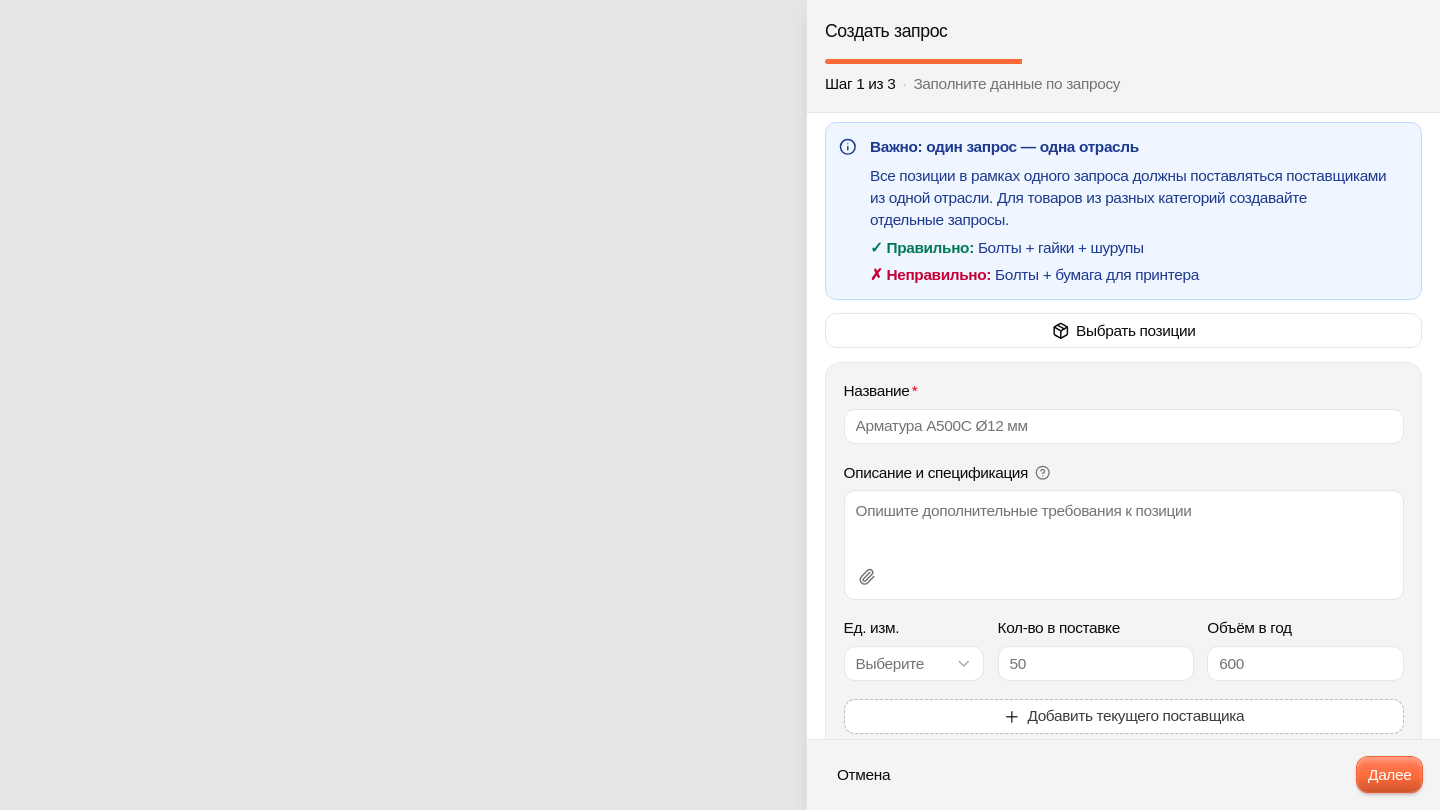
Test: CreateProcurementInquiryDrawer — wizard chrome › step 2 footer has Назад + Далее (no Отмена) at 66%
This screenshot has width=1440, height=810.
(page scrolled)
Type "Арматура" into the field labelled "Название" at (1124, 426), box [844, 409, 1404, 444]
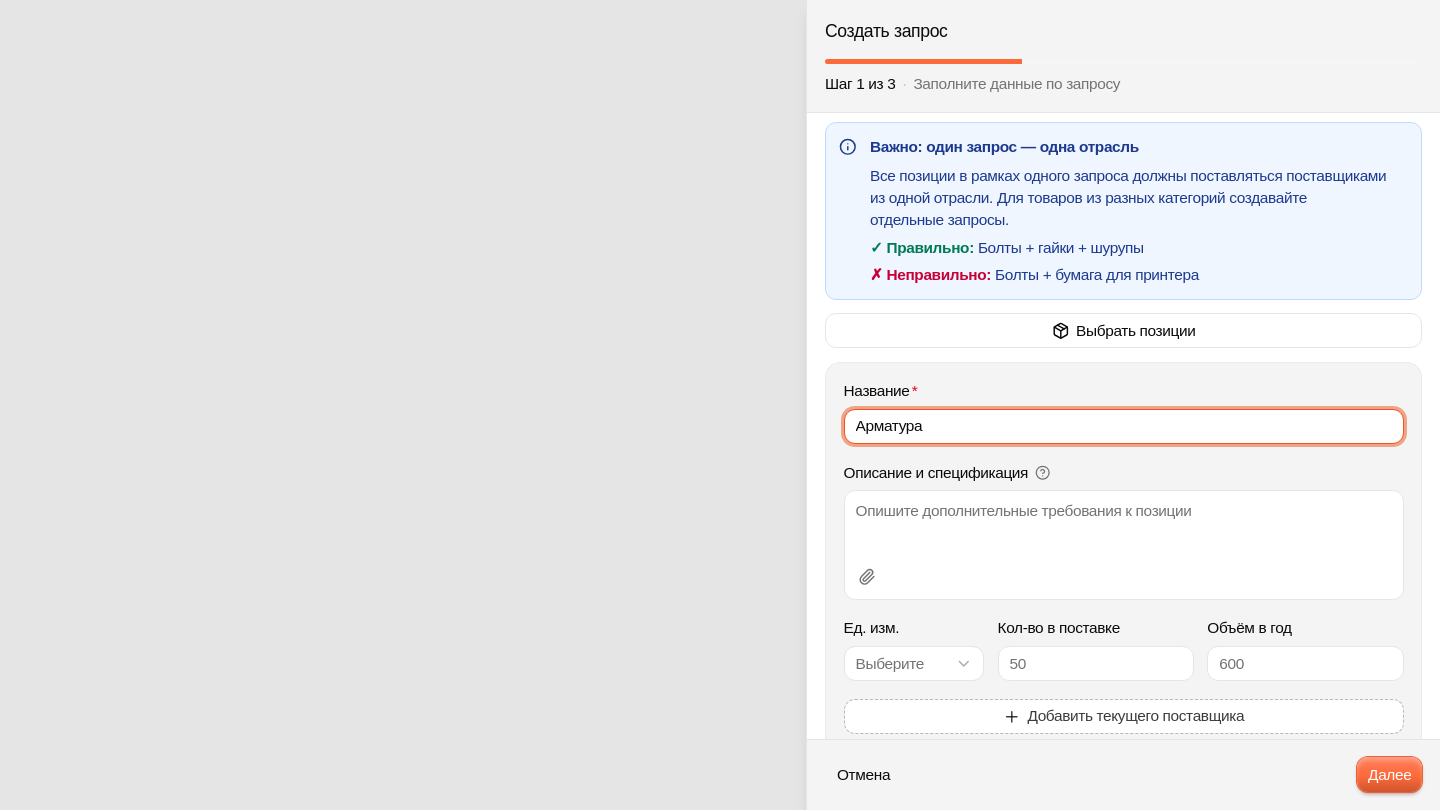
Click the button "Далее" at (1390, 775), box [1357, 757, 1422, 792]
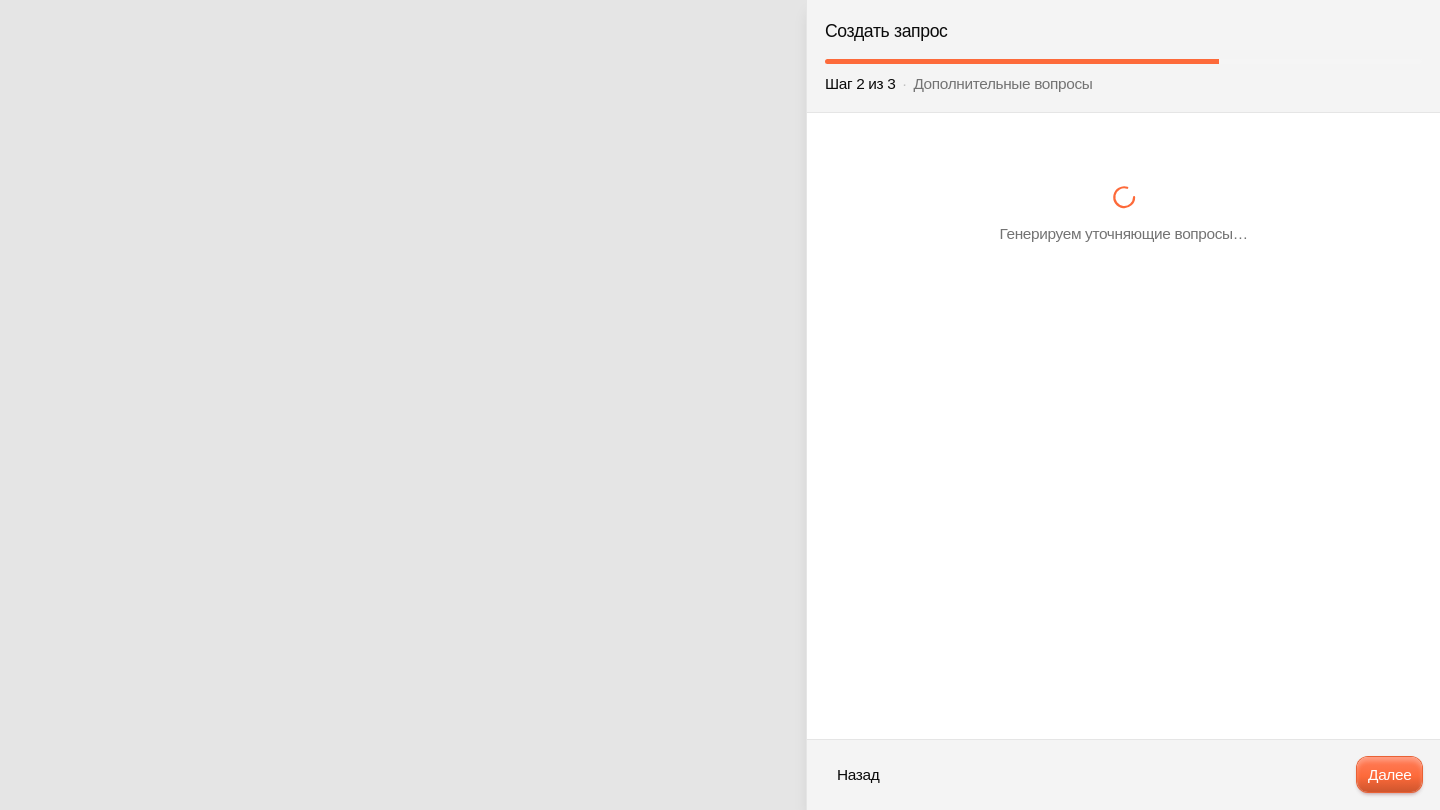
Expected: the button "Отмена" is gone
Expected: the button "Назад" is shown, [825, 757, 891, 792]
